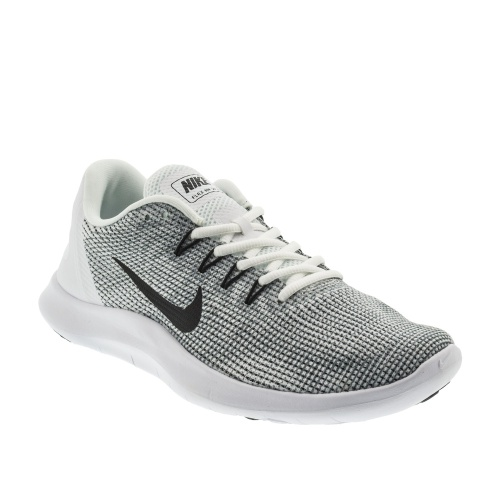nike: (111, 253, 205, 340)
